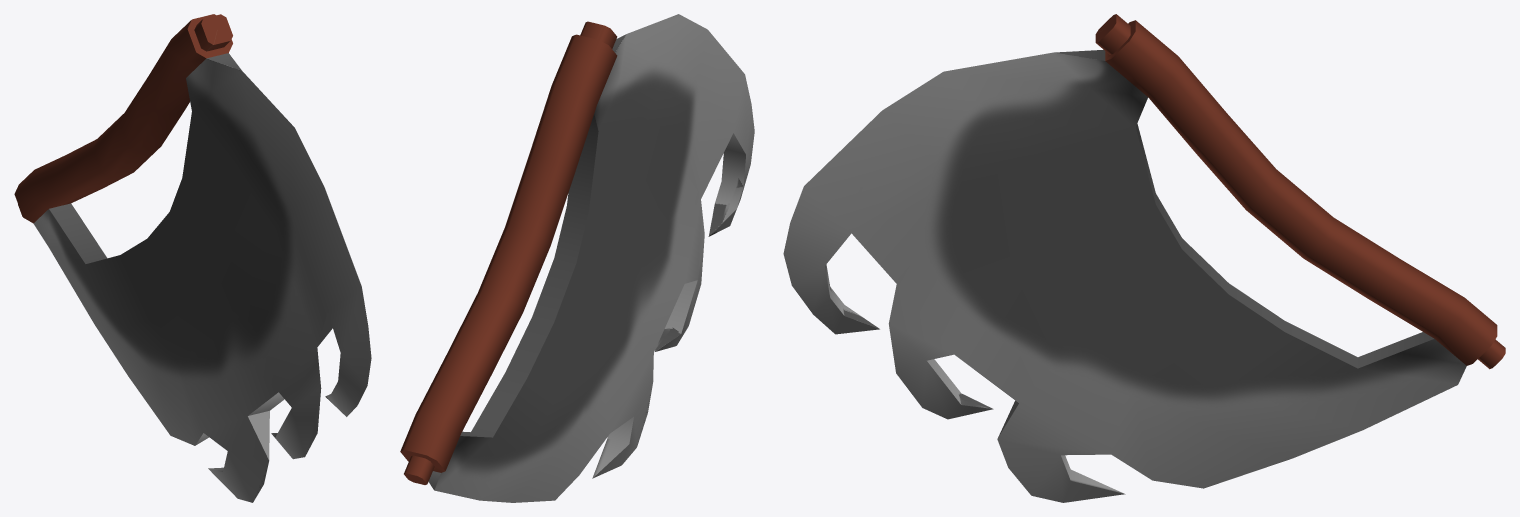
Rendered from hoja curva.fbx.
3 views of the same model, side by side, from view 1: azimuth 30°, elevation 25°; view 2: azimuth 150°, elevation 25°; view 3: azimuth 270°, elevation 25° (orthographic). The views are drawn at different scales.
Parts seen in each view (by area): view 1: hojaCurva; view 2: hojaCurva; view 3: hojaCurva.
Boxes of the visible parts, box(x1,y1,x2,y2) form: hojaCurva: box(14, 14, 371, 502); hojaCurva: box(400, 14, 754, 502); hojaCurva: box(783, 14, 1505, 502).
Size of the model in its own units: 5.24 by 62.71 by 84.69.
